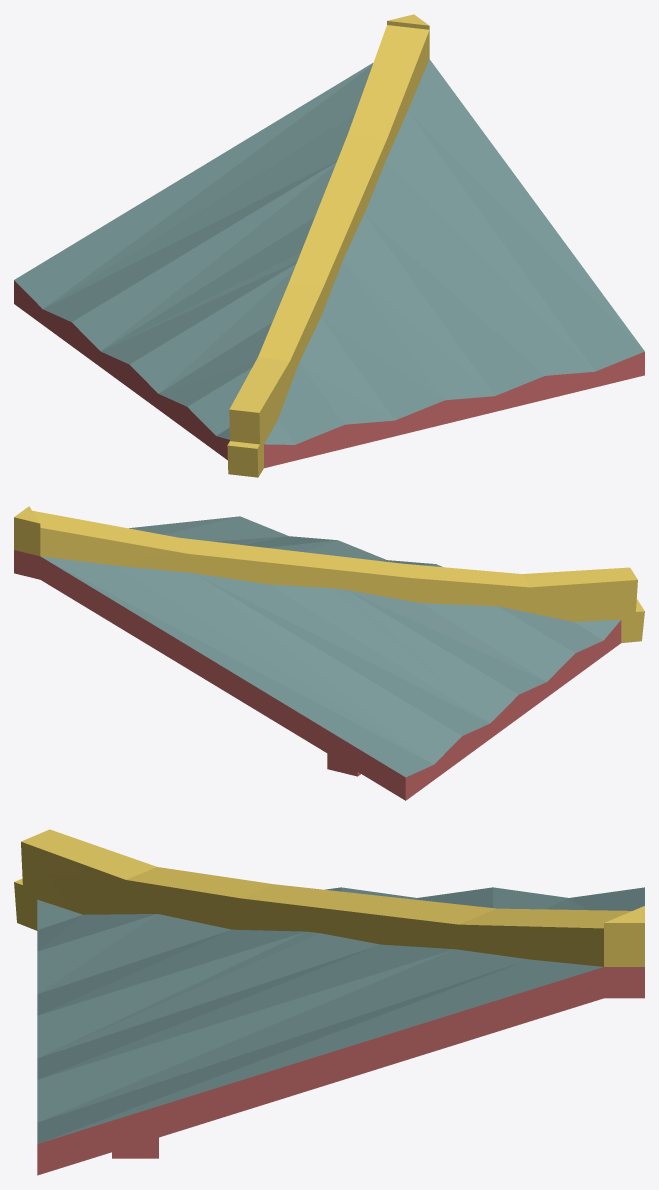
File: Roof.fbx
3 views of the same model, one above another, from view 1: azimuth 30°, elevation 25°; view 2: azimuth 150°, elevation 25°; view 3: azimuth 270°, elevation 25° (orthographic). The views are drawn at different scales.
Visible parts, largest first — view 1: Asian_Prop_Building_Modular_Roof_Corner_Outer_01, Asian_Prop_Building_Modular_Roof_Corner_Outer_01.002, Asian_Prop_Building_Modular_Roof_Corner_Outer_01.001; view 2: Asian_Prop_Building_Modular_Roof_Corner_Outer_01, Asian_Prop_Building_Modular_Roof_Corner_Outer_01.002, Asian_Prop_Building_Modular_Roof_Corner_Outer_01.001; view 3: Asian_Prop_Building_Modular_Roof_Corner_Outer_01, Asian_Prop_Building_Modular_Roof_Corner_Outer_01.002, Asian_Prop_Building_Modular_Roof_Corner_Outer_01.001.
Part boxes in pixels (x1,y1,x2,y2): Asian_Prop_Building_Modular_Roof_Corner_Outer_01: (14,59,644,444); Asian_Prop_Building_Modular_Roof_Corner_Outer_01.002: (227,14,429,477); Asian_Prop_Building_Modular_Roof_Corner_Outer_01.001: (14,280,644,468); Asian_Prop_Building_Modular_Roof_Corner_Outer_01: (41,516,620,777); Asian_Prop_Building_Modular_Roof_Corner_Outer_01.002: (14,506,644,642); Asian_Prop_Building_Modular_Roof_Corner_Outer_01.001: (14,550,621,800); Asian_Prop_Building_Modular_Roof_Corner_Outer_01: (37,887,644,1143); Asian_Prop_Building_Modular_Roof_Corner_Outer_01.002: (14,829,644,966); Asian_Prop_Building_Modular_Roof_Corner_Outer_01.001: (37,967,644,1175).
Size of the model in its own units: 671 by 297 by 671.
